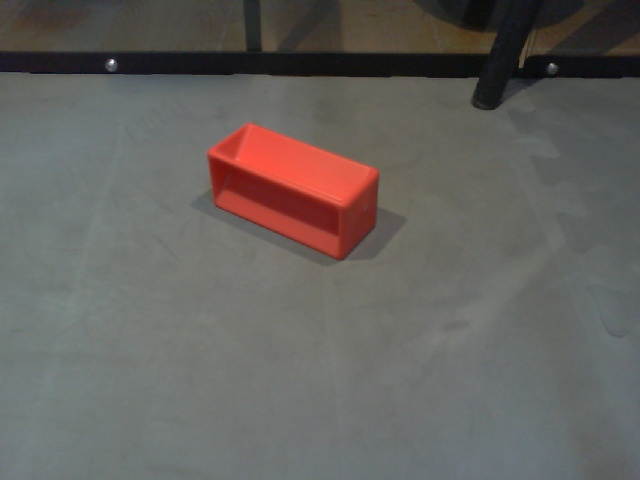RedSample: (205, 122, 381, 262)
